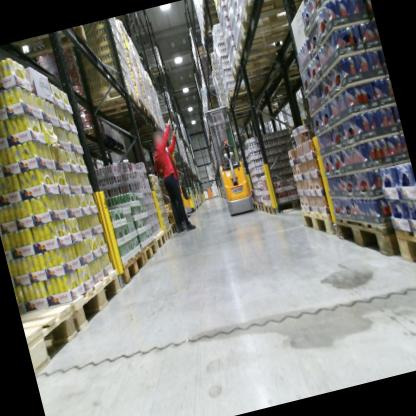pallet: (22, 303, 90, 379), (61, 267, 133, 337), (332, 202, 399, 270), (0, 26, 90, 69), (234, 0, 326, 36), (227, 41, 301, 83), (232, 16, 296, 63), (78, 81, 141, 123), (388, 220, 416, 281), (101, 94, 150, 128), (298, 201, 336, 244), (223, 76, 272, 107), (114, 251, 150, 289), (263, 195, 304, 217), (77, 122, 108, 150), (120, 107, 155, 131), (137, 238, 161, 265), (198, 15, 225, 37), (133, 122, 162, 139), (151, 230, 170, 255), (197, 0, 219, 21), (190, 44, 217, 60), (148, 61, 169, 79), (167, 221, 181, 238), (162, 225, 175, 240), (257, 200, 267, 215), (251, 197, 260, 212)
pallet_truck: (199, 105, 257, 222), (170, 164, 195, 218)
